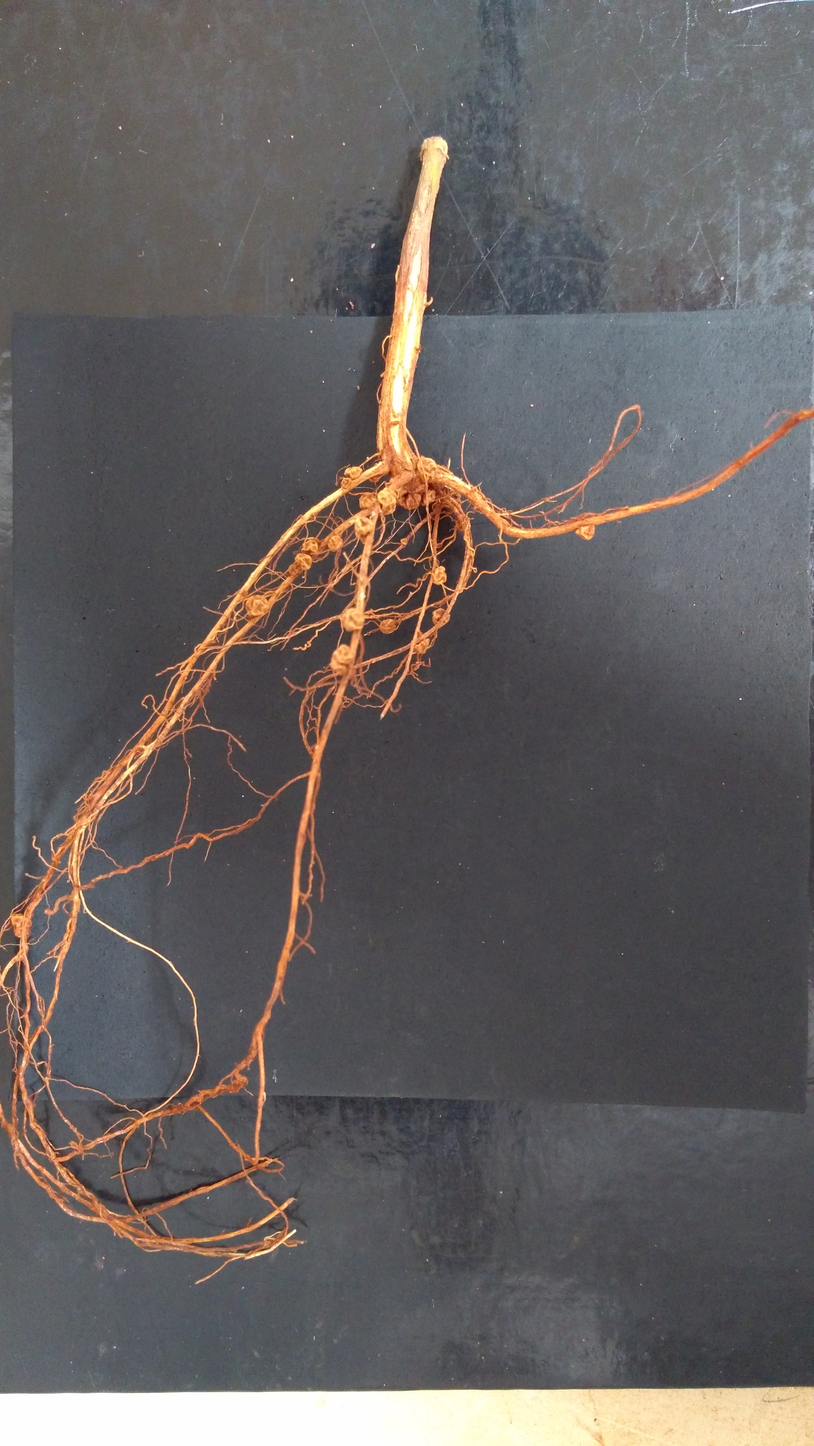nodule: (384, 475, 421, 510), (330, 644, 355, 676), (436, 484, 463, 508), (10, 912, 33, 940), (340, 607, 365, 632), (244, 594, 270, 617), (353, 516, 374, 544), (377, 487, 397, 515), (431, 464, 449, 490), (432, 607, 451, 628), (417, 488, 437, 507), (227, 1076, 248, 1094), (418, 468, 443, 483), (575, 523, 595, 541), (417, 457, 437, 475), (378, 618, 398, 635), (358, 492, 376, 509), (295, 553, 312, 571), (432, 565, 447, 585), (301, 539, 318, 556), (369, 467, 386, 483), (414, 638, 430, 655), (327, 535, 343, 552), (343, 467, 363, 480), (455, 515, 471, 531), (287, 563, 299, 576), (340, 477, 352, 489), (400, 537, 408, 546), (435, 542, 443, 549)
